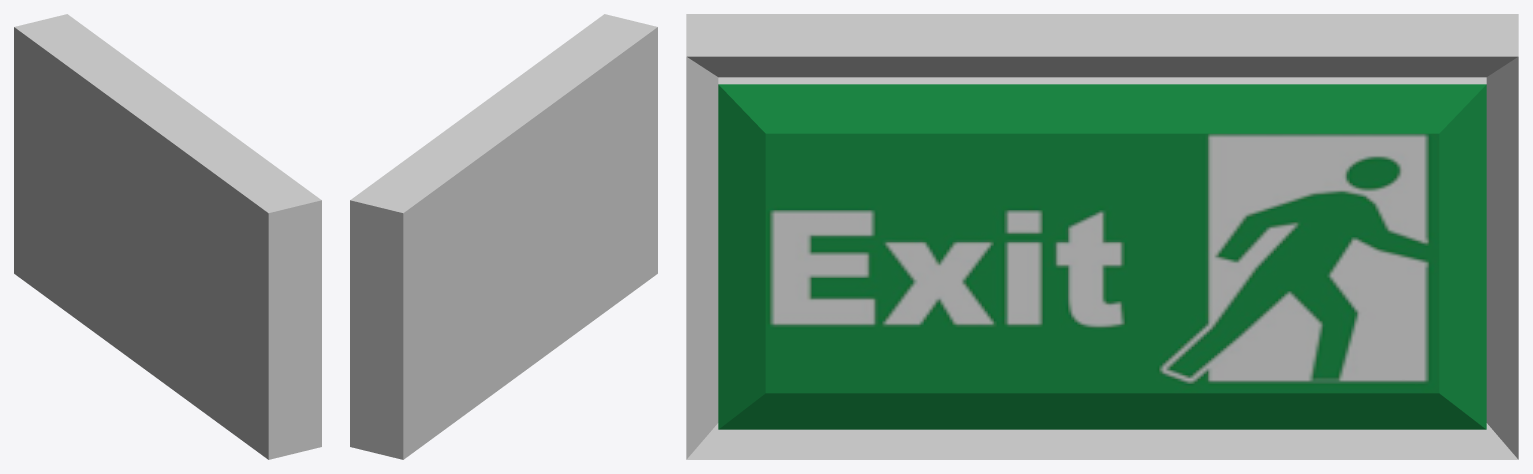
Rendered from Exit 1.fbx.
The picture shows the model from 3 angles, left to right: view 1: azimuth 30°, elevation 25°; view 2: azimuth 150°, elevation 25°; view 3: azimuth 270°, elevation 25°; orthographic projection. The views are drawn at different scales.
Parts seen in each view (by area): view 1: Exit; view 2: Exit; view 3: Exit.
Boxes of the visible parts, x1,y1,x2,y2 form: Exit: (14, 14, 321, 459); Exit: (350, 14, 657, 459); Exit: (686, 14, 1518, 459).
Size of the model in its own units: 0.5078 by 2 by 3.74.
Materials: 2 (1 with a texture image).
